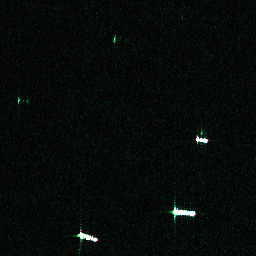ship: (75, 229, 100, 244), (170, 206, 197, 218), (194, 134, 210, 145)
